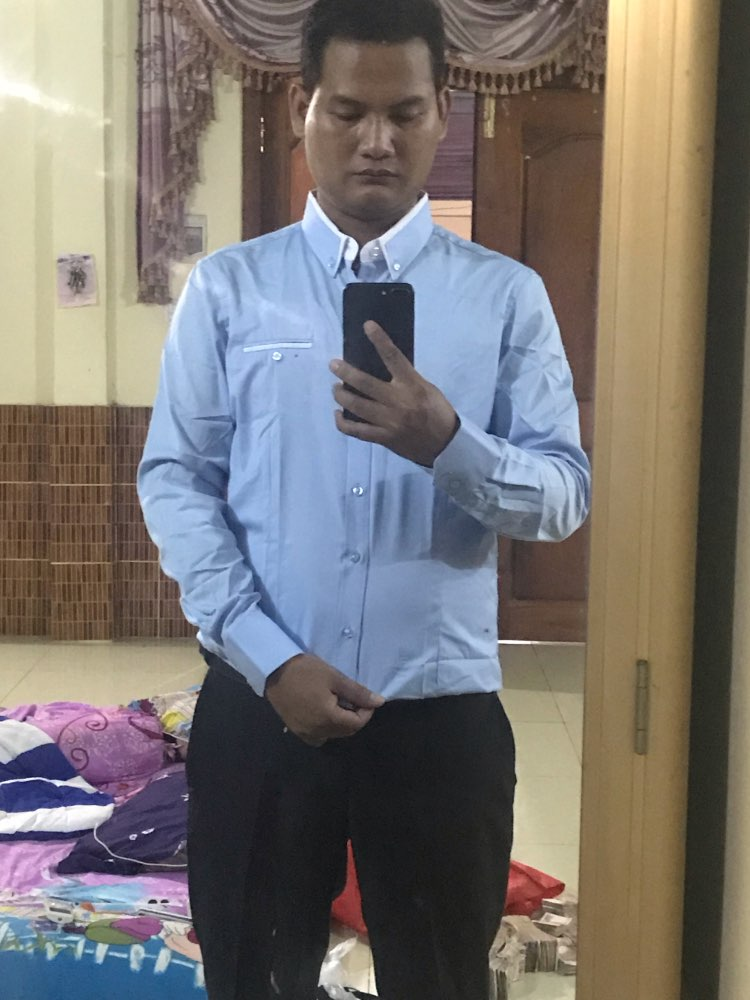shirts: (128, 187, 592, 694)
